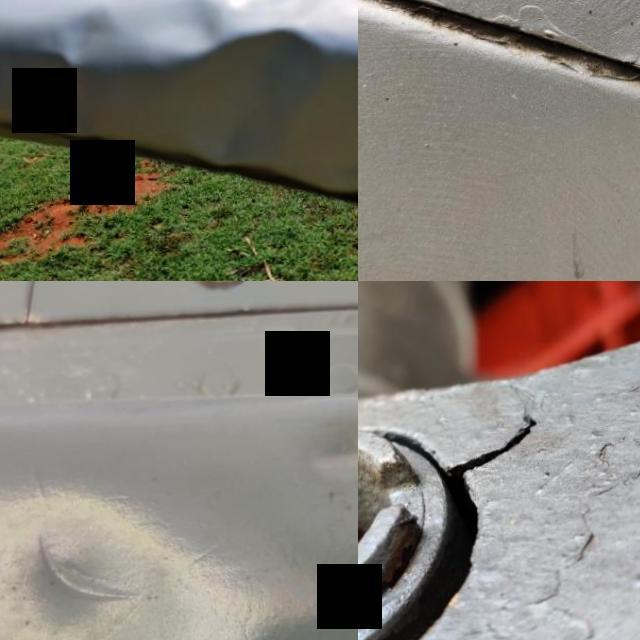Crack: (432, 403, 552, 488)
Dent: (0, 0, 358, 235), (2, 484, 181, 640), (286, 403, 358, 510)
